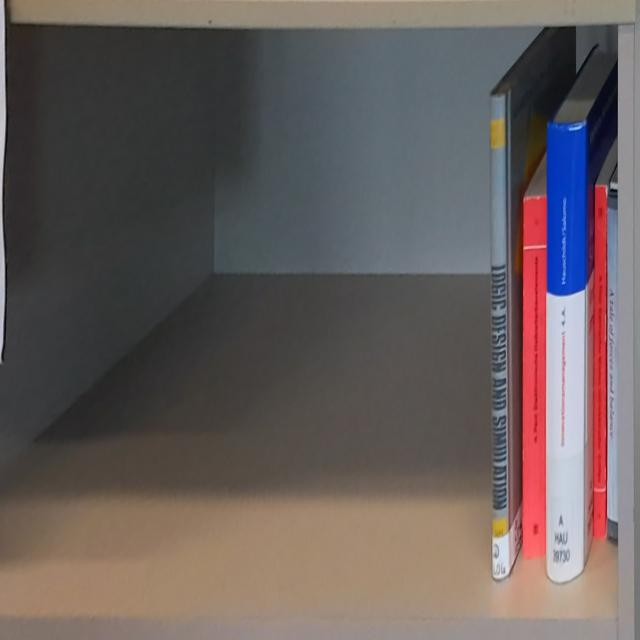Book Spine: (545, 119, 586, 584), (489, 94, 510, 577), (522, 196, 547, 558), (593, 182, 608, 537), (607, 182, 618, 541)
